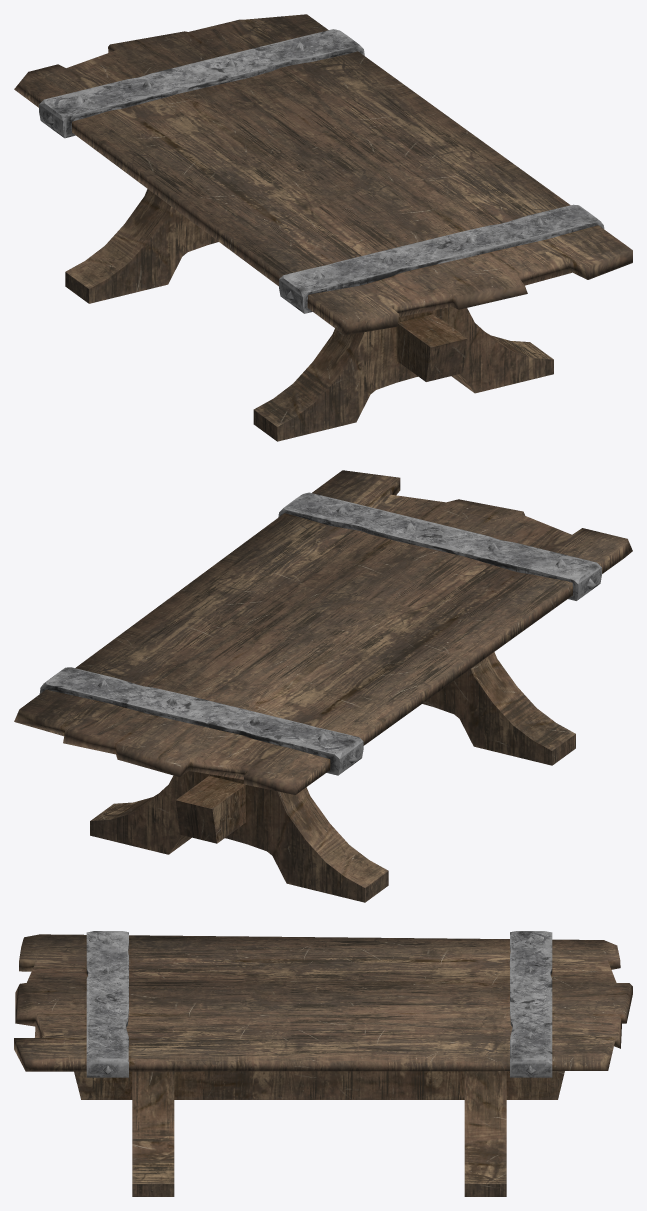
Rendered from Table_lowPoly.glb.
3 views of the same model, one above another, from view 1: azimuth 30°, elevation 25°; view 2: azimuth 150°, elevation 25°; view 3: azimuth 270°, elevation 25° (orthographic). The views are drawn at different scales.
Parts seen in each view (by area): view 1: tab_low__0; view 2: tab_low__0; view 3: tab_low__0.
Part boxes in pixels (left/top/right/bottom): tab_low__0: left=14, top=14, right=632, bottom=441; tab_low__0: left=14, top=470, right=632, bottom=902; tab_low__0: left=14, top=931, right=632, bottom=1196.
Size of the model in its own units: 2.6 by 1.37 by 5.02.
Materials: 1 (1 with a texture image).
